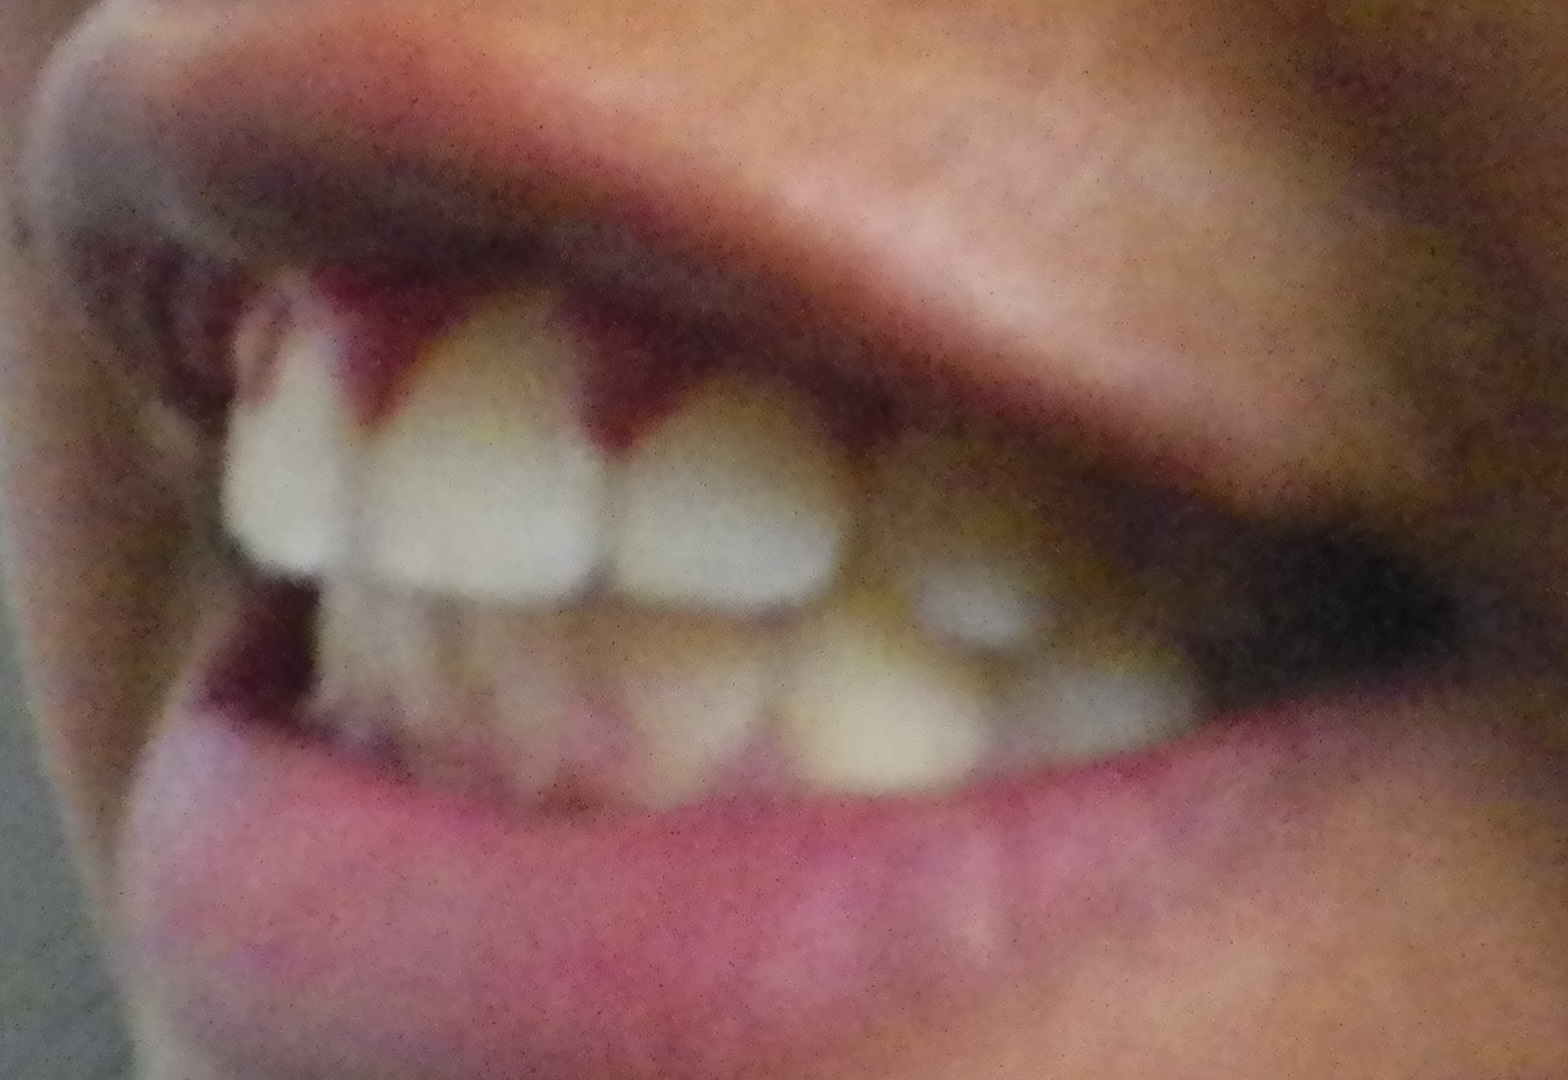boca: (213, 302, 1268, 805)
